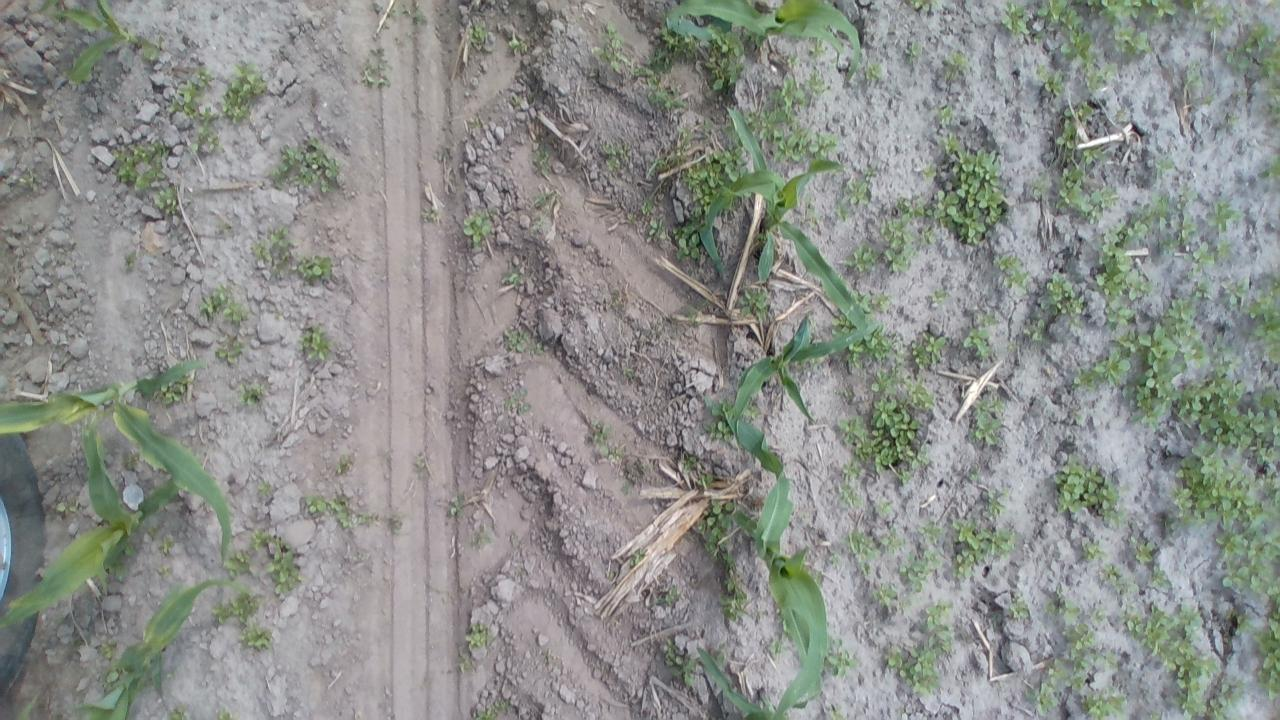Maize: (1, 363, 234, 553), (700, 104, 874, 347), (3, 410, 184, 636), (716, 412, 833, 719), (74, 569, 230, 716), (719, 311, 878, 439), (665, 1, 863, 74), (692, 641, 824, 720), (41, 0, 150, 86)
Weeds: (914, 134, 1016, 248), (1138, 293, 1212, 427), (1168, 448, 1280, 528), (1178, 370, 1280, 450), (852, 395, 926, 483), (748, 109, 841, 165), (1096, 216, 1152, 306), (1060, 144, 1118, 229), (1052, 457, 1124, 524), (886, 626, 954, 694), (1214, 528, 1276, 594), (649, 116, 710, 180), (1170, 642, 1218, 716), (632, 30, 695, 86), (1044, 650, 1120, 696), (113, 137, 174, 194), (279, 138, 342, 192), (880, 204, 930, 272), (954, 522, 1014, 576), (1120, 608, 1188, 652), (1044, 1, 1090, 66), (1073, 342, 1133, 390), (1249, 275, 1280, 362), (222, 64, 268, 122), (1226, 25, 1276, 76), (249, 222, 297, 275), (582, 412, 630, 463), (841, 164, 878, 228), (685, 154, 734, 202), (168, 65, 210, 120), (1180, 0, 1232, 43), (588, 16, 627, 72), (706, 33, 742, 91), (1086, 0, 1178, 22), (899, 550, 943, 596), (1253, 625, 1280, 699), (624, 197, 662, 248), (1186, 239, 1232, 280), (697, 500, 735, 548), (201, 284, 247, 323), (1047, 272, 1087, 316), (214, 589, 262, 625), (268, 544, 302, 594), (1078, 58, 1128, 91), (676, 448, 716, 488), (1056, 104, 1090, 150), (847, 528, 878, 578), (1185, 54, 1215, 105), (908, 330, 948, 368), (1081, 686, 1127, 718), (1211, 676, 1246, 718), (680, 300, 716, 338), (1257, 74, 1280, 133), (152, 180, 188, 217), (672, 218, 705, 258), (664, 641, 695, 682), (864, 325, 898, 360), (1022, 174, 1053, 212), (774, 78, 806, 114), (495, 262, 530, 294), (503, 382, 533, 419), (462, 211, 492, 248), (470, 696, 516, 720), (900, 36, 929, 74), (530, 136, 552, 184), (724, 550, 748, 594), (994, 253, 1028, 284), (1028, 678, 1059, 712), (300, 325, 330, 359), (971, 408, 999, 444), (868, 364, 900, 395), (1209, 200, 1241, 231), (962, 324, 992, 357), (807, 67, 830, 110), (720, 586, 748, 620), (619, 458, 644, 496), (1006, 588, 1032, 624), (1044, 594, 1082, 618), (1064, 624, 1096, 652), (904, 380, 936, 408), (1266, 574, 1280, 638), (1118, 20, 1144, 54), (802, 40, 832, 69), (846, 244, 877, 272), (1106, 568, 1138, 595), (327, 498, 355, 528), (1004, 1, 1028, 36), (652, 87, 688, 110), (945, 49, 970, 82), (195, 111, 216, 150), (299, 254, 333, 278), (1211, 341, 1240, 369), (858, 291, 893, 314), (444, 492, 469, 524), (1146, 190, 1170, 223), (1224, 606, 1250, 636), (140, 35, 166, 64), (923, 603, 953, 628), (742, 288, 768, 316), (602, 142, 628, 170), (1148, 566, 1174, 594), (224, 550, 250, 578), (413, 448, 435, 481), (828, 649, 857, 674), (861, 54, 883, 86), (1034, 69, 1062, 94), (244, 624, 272, 649), (1104, 304, 1133, 328), (534, 190, 560, 216), (700, 391, 726, 417), (1129, 535, 1154, 562), (454, 646, 476, 676), (302, 496, 328, 521), (936, 102, 959, 130), (52, 498, 84, 518), (402, 3, 431, 25), (703, 420, 733, 441), (1157, 230, 1178, 260), (986, 489, 1008, 517), (468, 522, 490, 550), (842, 342, 862, 372), (1224, 278, 1247, 304), (527, 333, 550, 359), (360, 65, 388, 86), (422, 199, 442, 228), (466, 622, 490, 646), (1024, 316, 1046, 342), (357, 508, 383, 530), (1186, 181, 1204, 212), (120, 246, 142, 271), (878, 584, 896, 614), (238, 382, 265, 402), (504, 330, 528, 352), (16, 168, 40, 190), (1082, 540, 1107, 561), (1176, 216, 1196, 242), (768, 631, 788, 657), (469, 22, 487, 50), (919, 522, 944, 542), (1149, 156, 1174, 176), (910, 0, 941, 16), (621, 357, 639, 384), (882, 530, 904, 552), (160, 383, 183, 404), (216, 341, 240, 361), (255, 476, 275, 500), (1092, 598, 1108, 628), (386, 514, 406, 538), (603, 557, 620, 583), (840, 483, 861, 504), (252, 528, 274, 548), (929, 290, 951, 310), (976, 308, 1000, 326), (630, 546, 649, 568), (333, 448, 349, 474), (166, 702, 189, 720), (826, 702, 849, 720), (1192, 278, 1212, 298), (832, 317, 855, 334), (433, 147, 452, 167), (828, 548, 844, 571), (1260, 157, 1276, 180), (101, 634, 115, 660), (158, 538, 178, 556), (1222, 111, 1242, 129), (658, 588, 678, 606), (217, 218, 234, 238), (804, 200, 818, 224), (633, 457, 650, 476), (538, 644, 554, 664), (788, 50, 802, 72), (508, 36, 526, 53), (875, 499, 893, 516), (146, 522, 162, 540), (510, 90, 524, 109), (745, 404, 761, 420), (216, 706, 232, 720), (158, 564, 171, 579), (467, 116, 481, 128)
